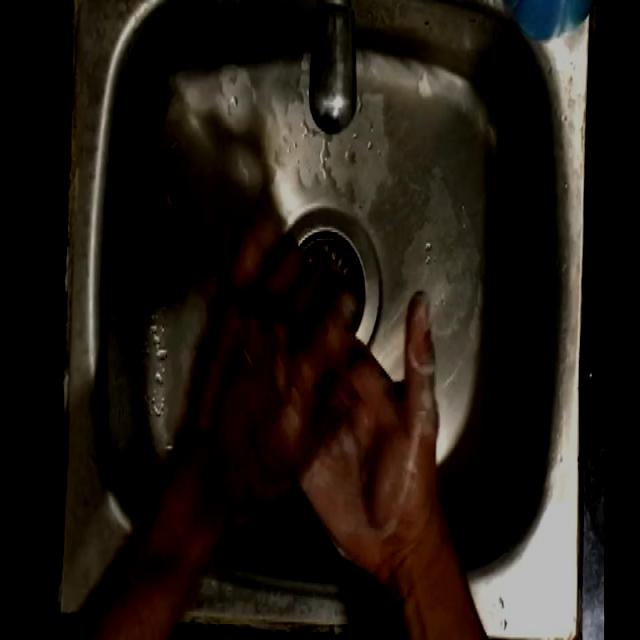step_5: (192, 215, 454, 585)
